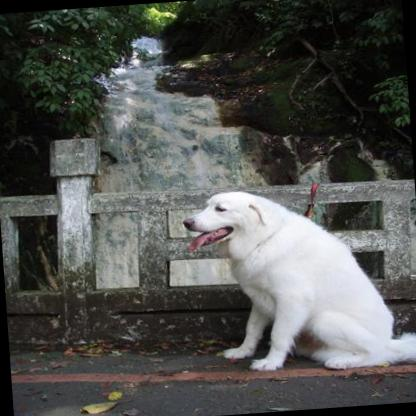Great_Pyrenees: (178, 178, 416, 380)
